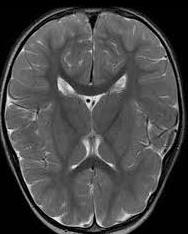Normal_Brain: (6, 2, 188, 234)
